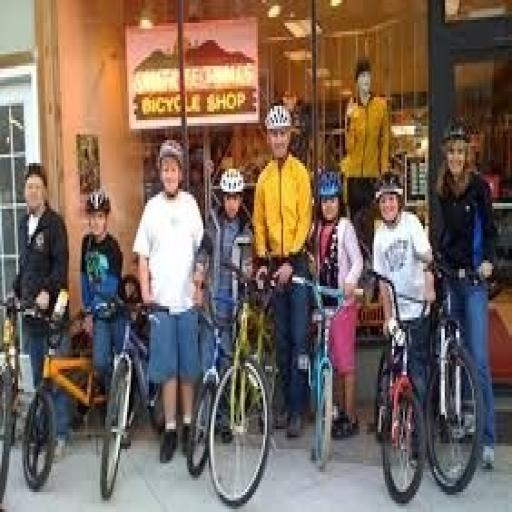cycling: (428, 114, 500, 475), (131, 138, 209, 466), (248, 100, 318, 441), (368, 169, 440, 469), (9, 160, 75, 461), (307, 166, 367, 443), (76, 183, 134, 446), (203, 166, 256, 443)
